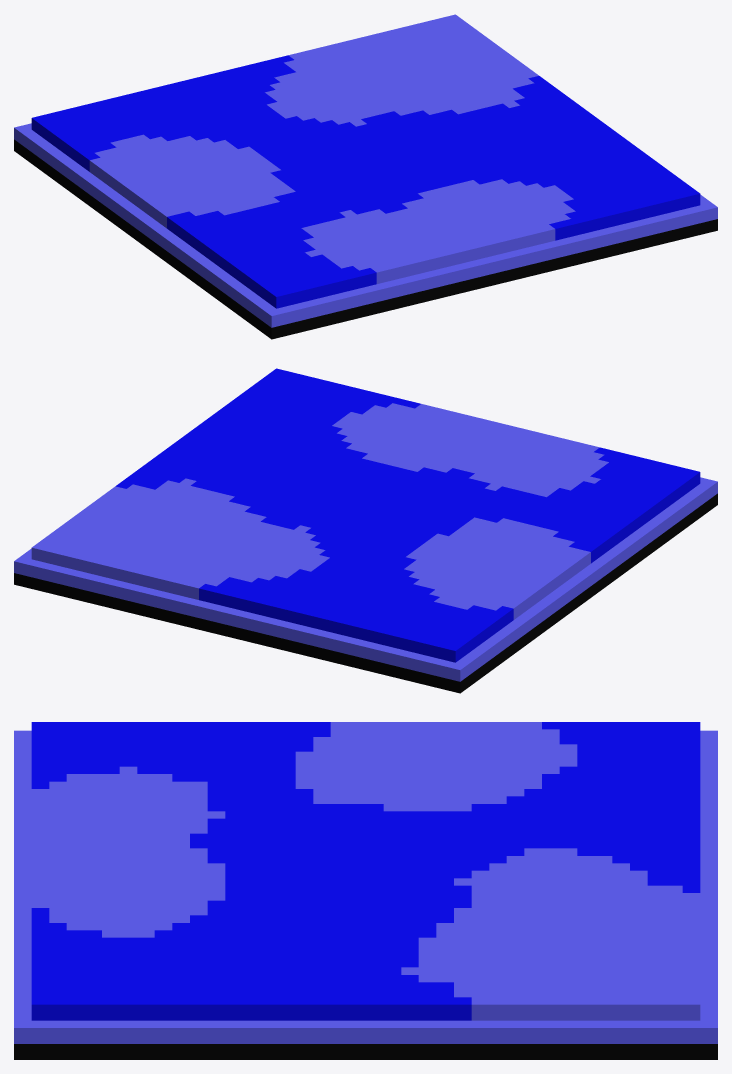
Rendered from BoardPieceFour.fbx.
3 views of the same model, one above another, from view 1: azimuth 30°, elevation 25°; view 2: azimuth 150°, elevation 25°; view 3: azimuth 270°, elevation 25° (orthographic). The views are drawn at different scales.
Visible parts, largest first — view 1: boardGround4; view 2: boardGround4; view 3: boardGround4.
Boxes of the visible parts, x1,y1,x2,y2 form: boardGround4: (14,14,717,339); boardGround4: (14,368,717,693); boardGround4: (14,722,717,1059).
Bounding box in the file's own units: 400 × 30 × 400.
